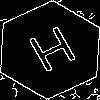H: (25, 25, 85, 82)
